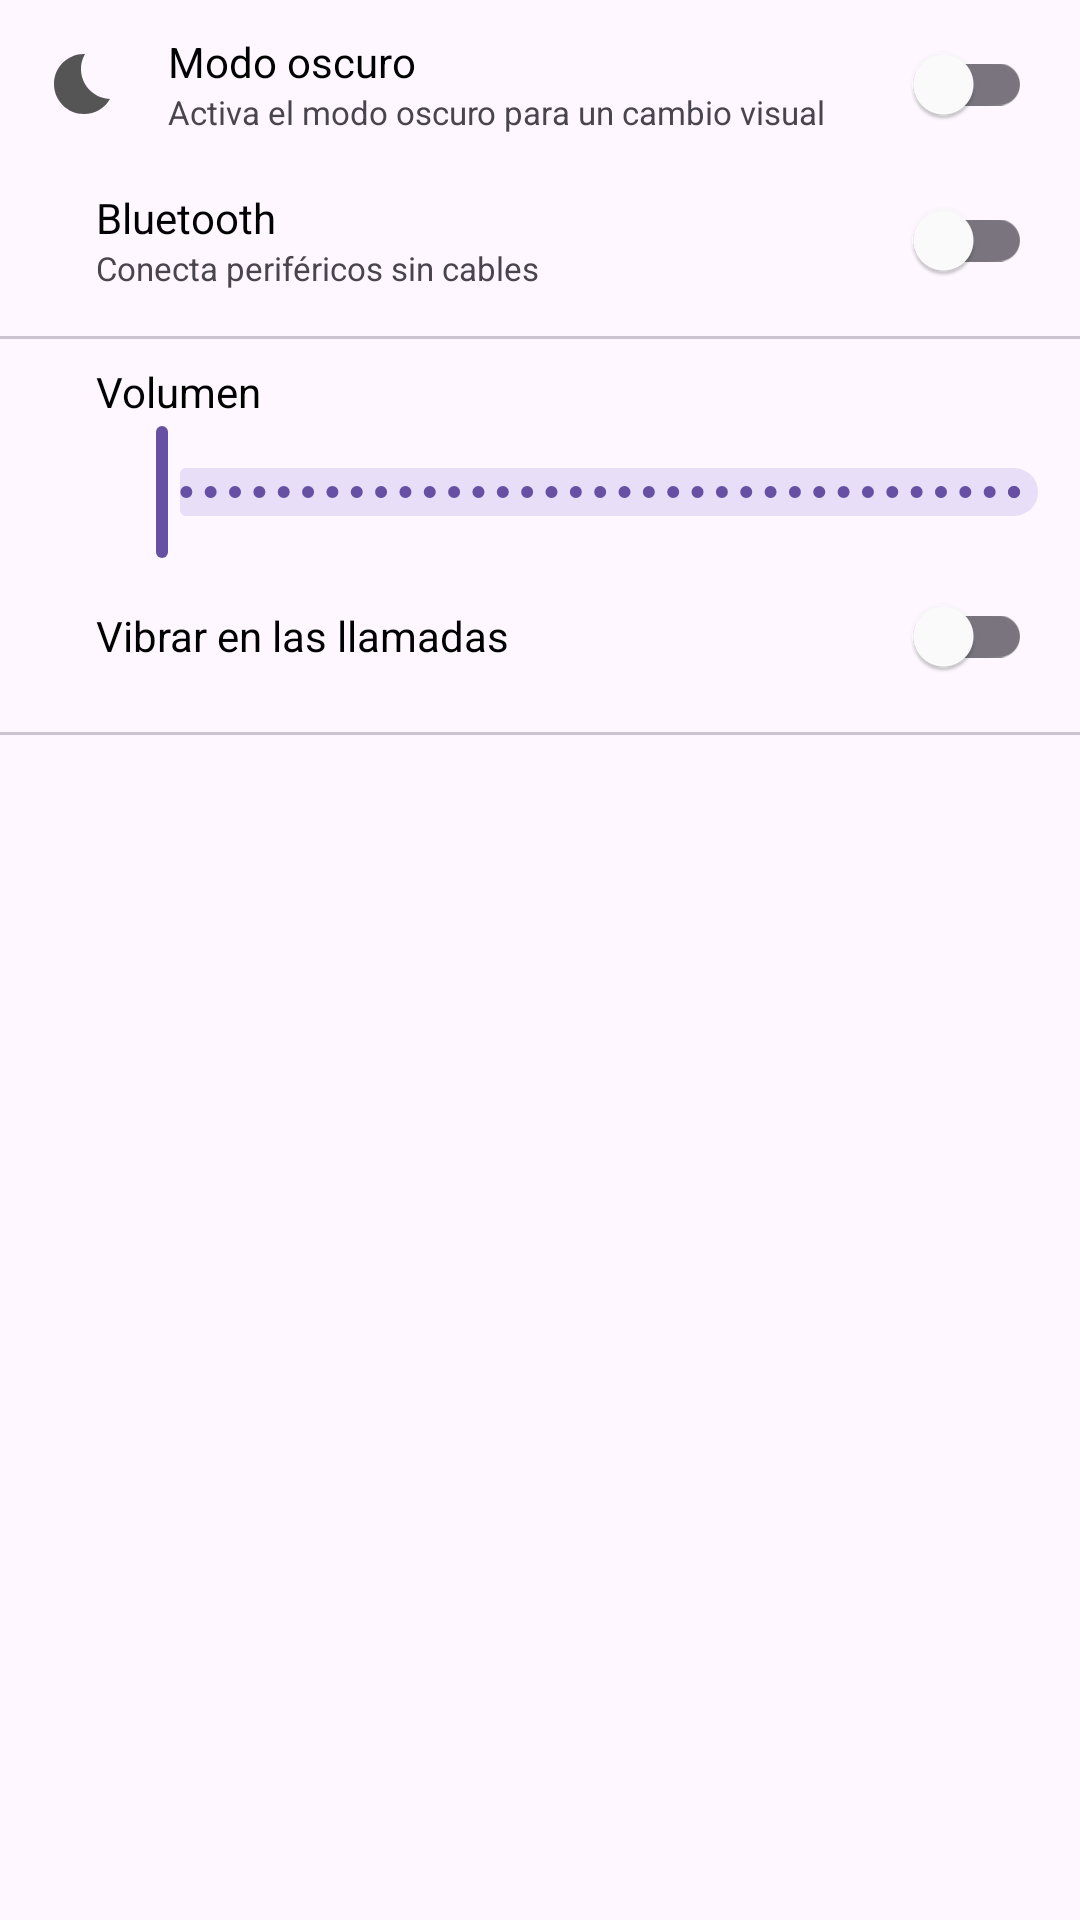

Icon click points for this 1080 x 1920 phone screenshot, format (x,y):
A moon icon representing the dark mode toggle setting: (82,84)
